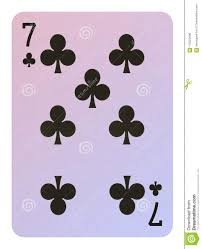seven of clubs: (12, 12, 173, 235)
